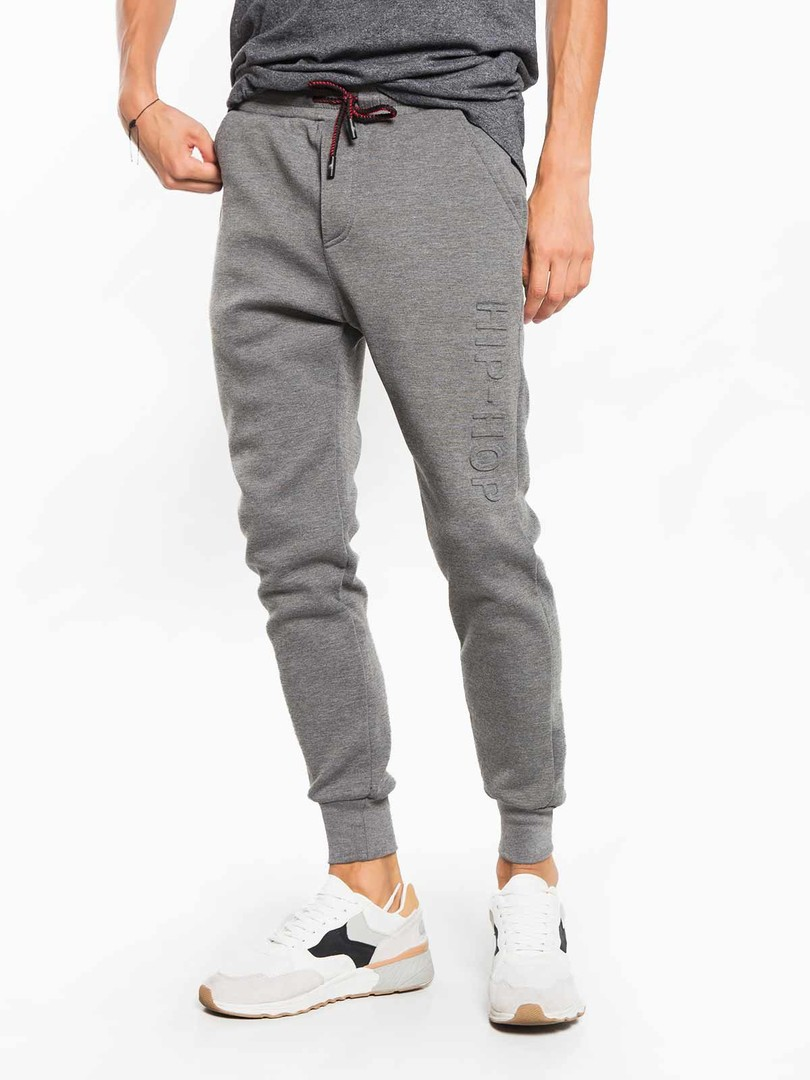feet: (160, 793, 616, 1034)
